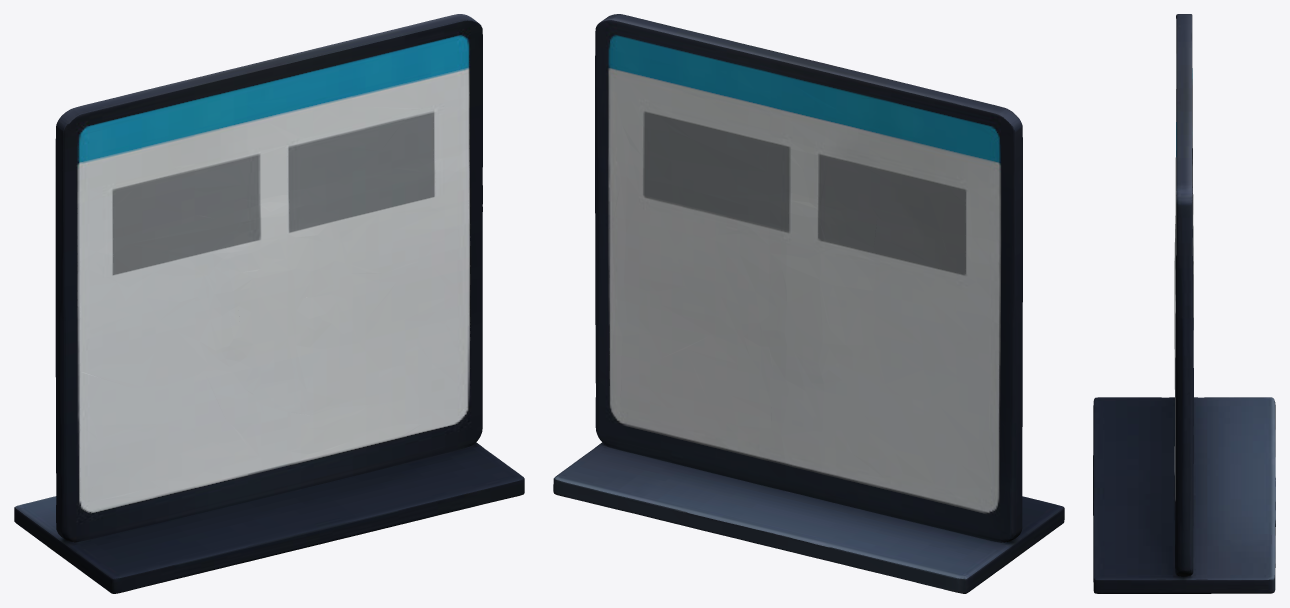
The model's file is tela.glb.
3 renders of one model, left to right at view 1: azimuth 30°, elevation 25°; view 2: azimuth 150°, elevation 25°; view 3: azimuth 270°, elevation 25°, orthographic. The views are drawn at different scales.
Size of the model in its own units: 0.9968 by 1 by 0.411.
Materials: 1 (1 with a texture image).
